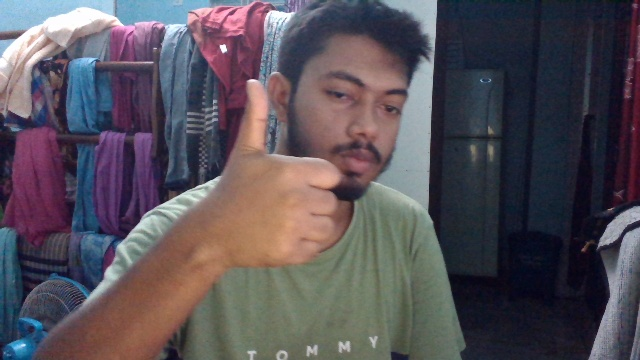yes: (208, 75, 342, 262)
